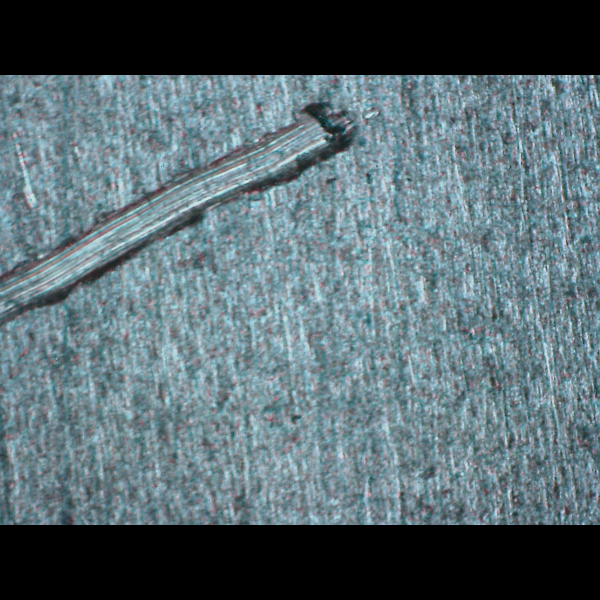d: (0, 100, 358, 331)
